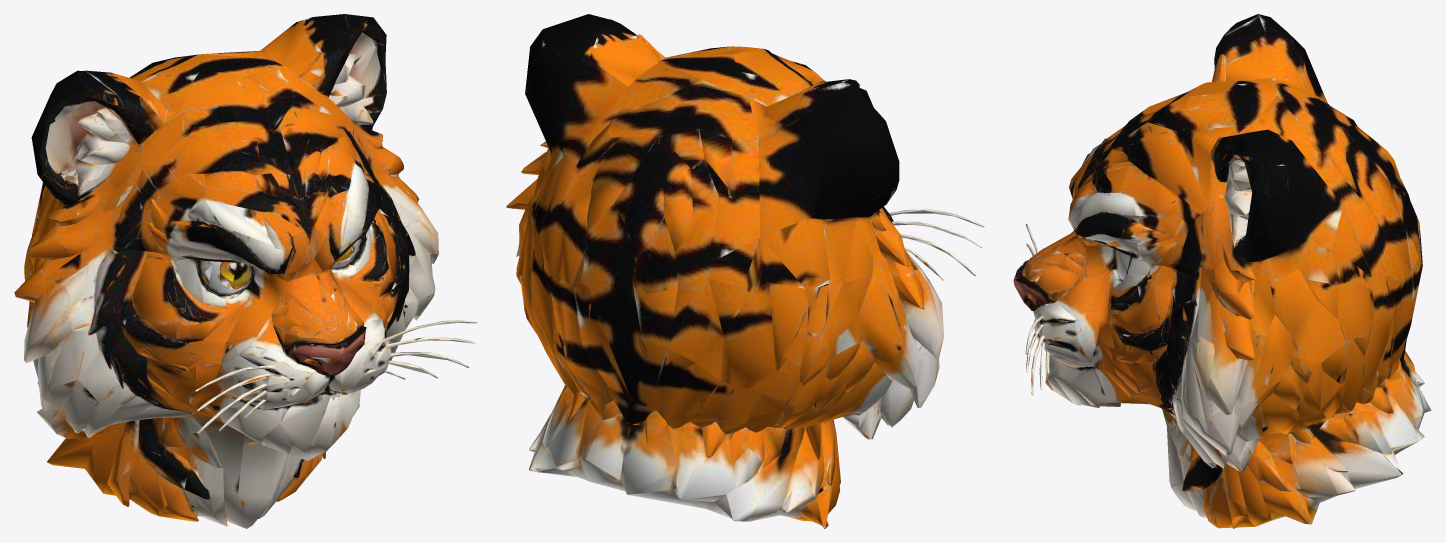
File: hdTiger.25f442129b.glb
The picture shows the model from 3 angles, left to right: view 1: azimuth 30°, elevation 25°; view 2: azimuth 150°, elevation 25°; view 3: azimuth 270°, elevation 25°; orthographic projection. The views are drawn at different scales.
Bounding box in the file's own units: 1.73 × 1.87 × 1.63.
Materials: 1 (1 with a texture image).
